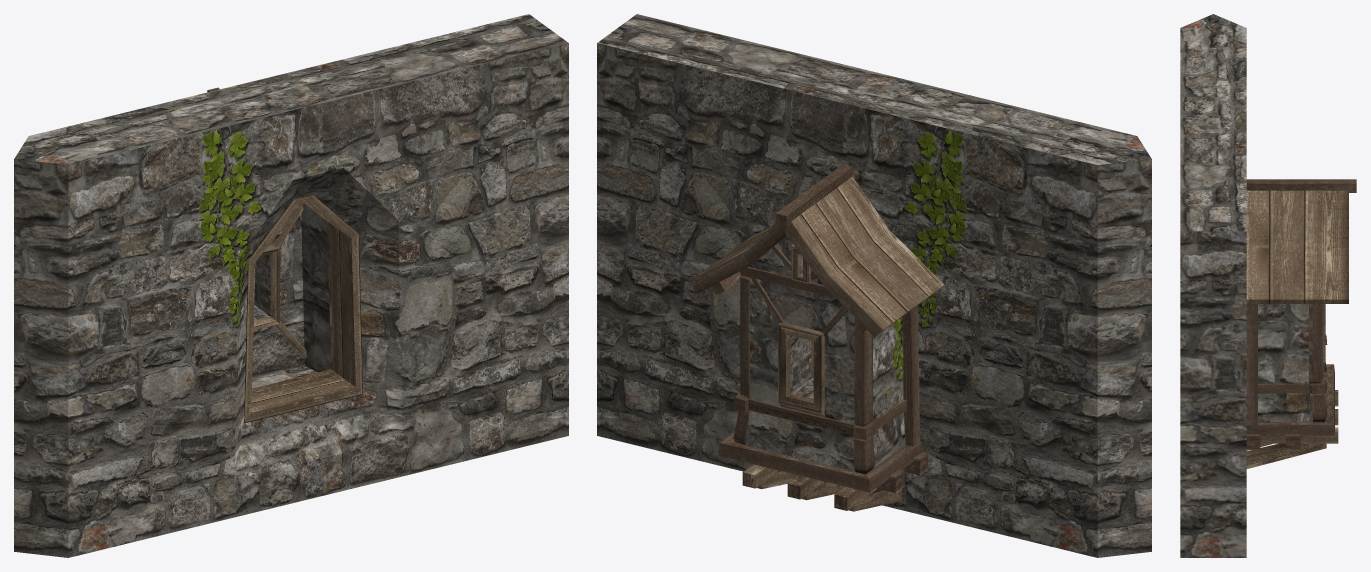
Rendered from House_Plain_Stone_Wall_Upper_Oriel2.dae.
3 views of the same model, side by side, from view 1: azimuth 30°, elevation 25°; view 2: azimuth 150°, elevation 25°; view 3: azimuth 270°, elevation 25° (orthographic). The views are drawn at different scales.
Parts seen in each view (by area): view 1: oriel2; view 2: oriel2; view 3: oriel2.
Boxes of the visible parts, x1,y1,x2,y2 form: oriel2: (14,14,568,557); oriel2: (597,14,1151,557); oriel2: (1180,14,1356,557).
Bounding box in the file's own units: 4.28 × 3 × 1.47.
Materials: 1 (1 with a texture image).
